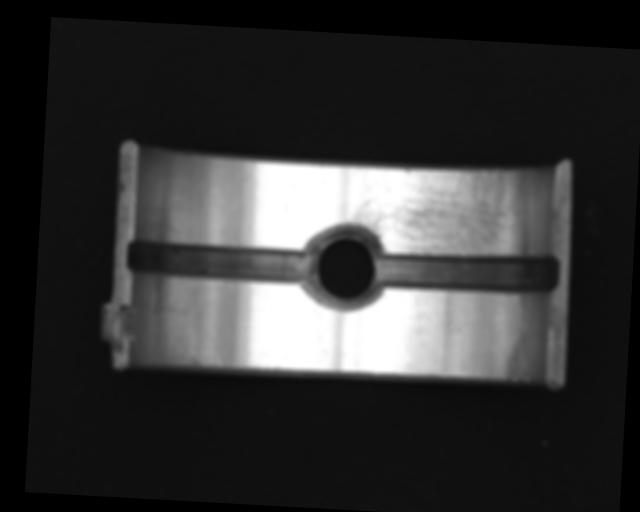gap: (373, 248, 560, 297), (126, 237, 313, 285)
hole: (301, 223, 386, 311)
scratch: (347, 161, 525, 260)
